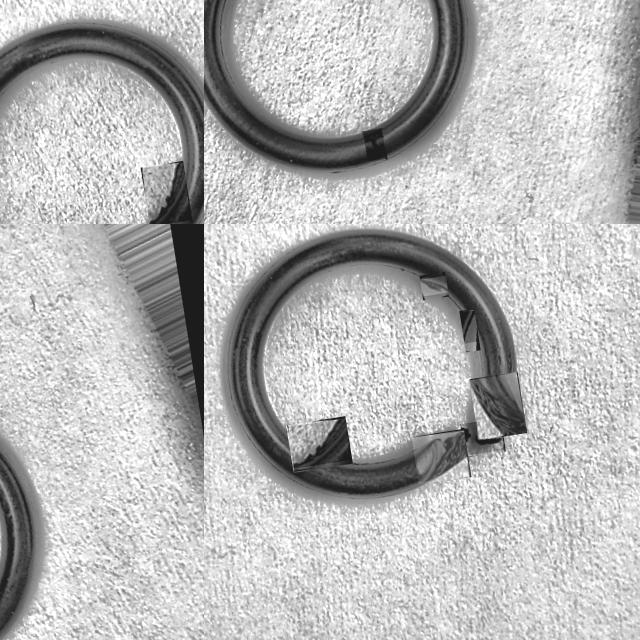切割缺陷: (471, 380, 526, 436), (416, 430, 466, 484), (364, 129, 386, 160)
挤压缺陷: (463, 424, 504, 456)
裂纹: (294, 419, 347, 469), (149, 163, 184, 224), (464, 311, 475, 344), (420, 281, 448, 293)
